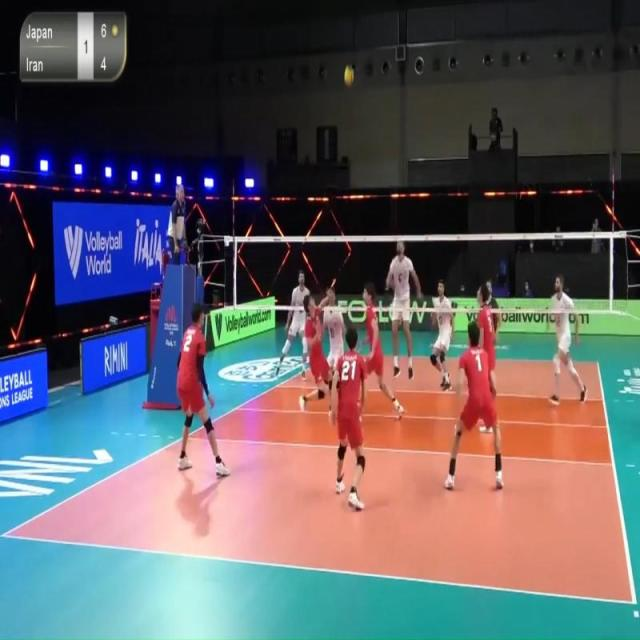volleyball: (344, 66, 355, 85)
